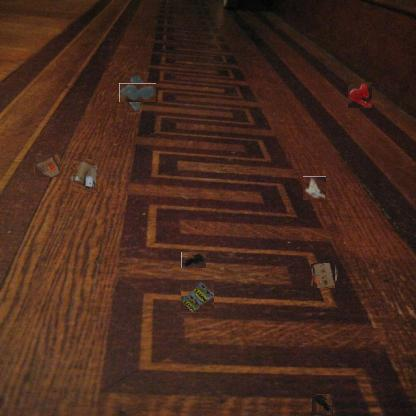dirty: (180, 279, 214, 313), (70, 161, 100, 191), (34, 154, 60, 178), (312, 263, 336, 287), (303, 176, 326, 200), (312, 394, 334, 416), (181, 252, 206, 269)
liquid: (124, 79, 152, 106), (348, 82, 372, 108)
